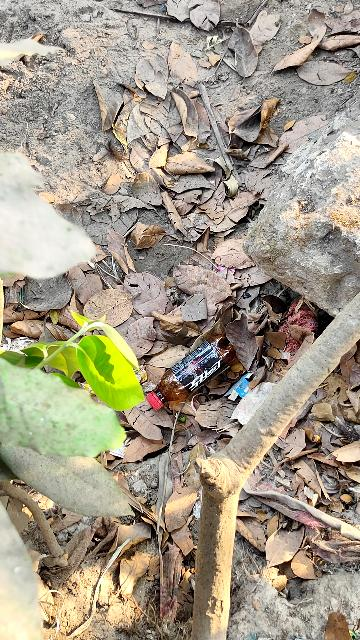bottle: (143, 326, 243, 429)
